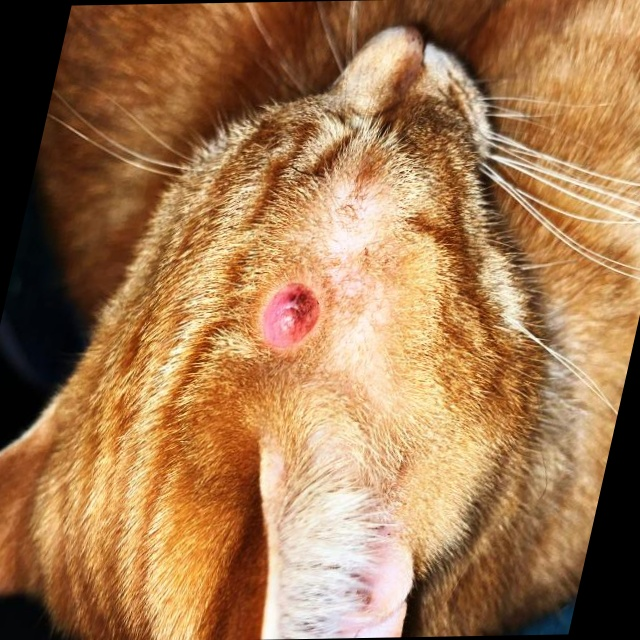lump_and_bump: (252, 281, 328, 355)
